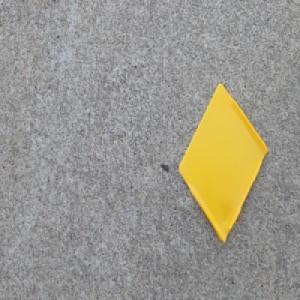PlasticPart: (177, 82, 269, 245)
